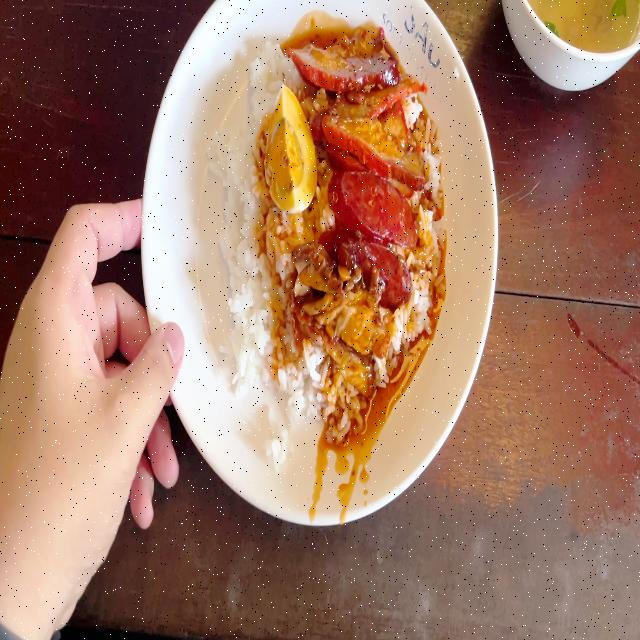boiled_egg: (270, 88, 313, 207)
chainese_sausage: (329, 174, 423, 295)
crispy_pork: (304, 305, 393, 369), (294, 239, 336, 303)
red_pork: (309, 47, 431, 175)
red_pork_and_crispy_pork: (222, 36, 442, 423)
rice: (224, 213, 297, 441), (214, 118, 263, 207), (243, 34, 289, 102)
